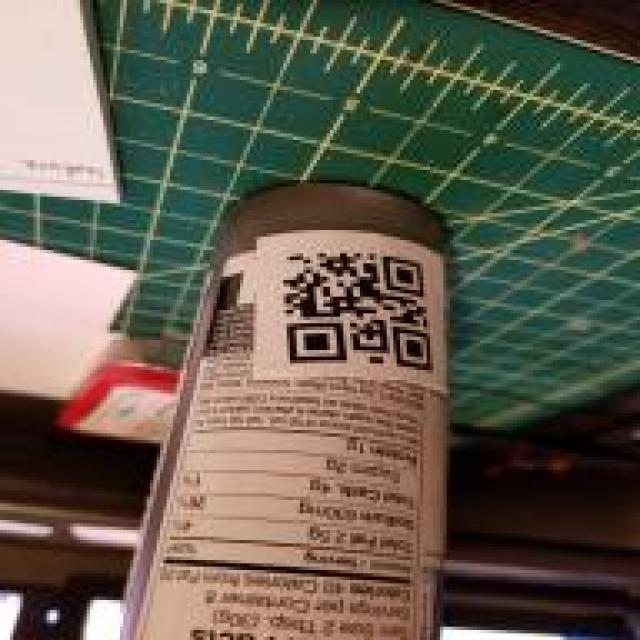qr_code: (282, 252, 434, 372)
